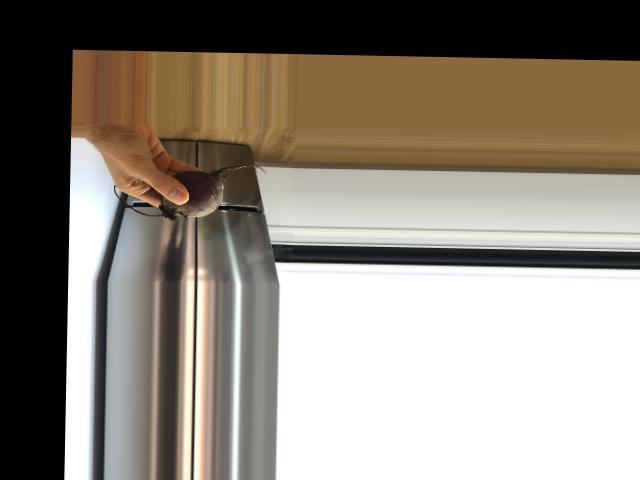beet: (113, 161, 268, 221)
